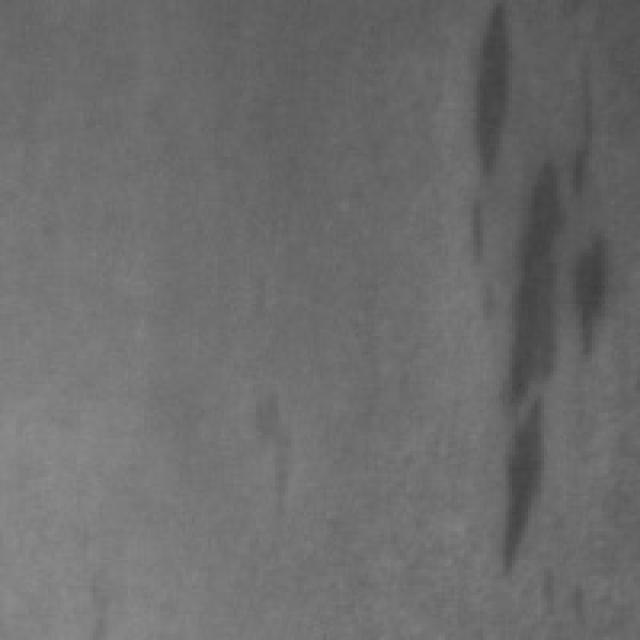inclusion: (470, 7, 618, 586), (448, 0, 512, 266), (234, 365, 304, 512)
